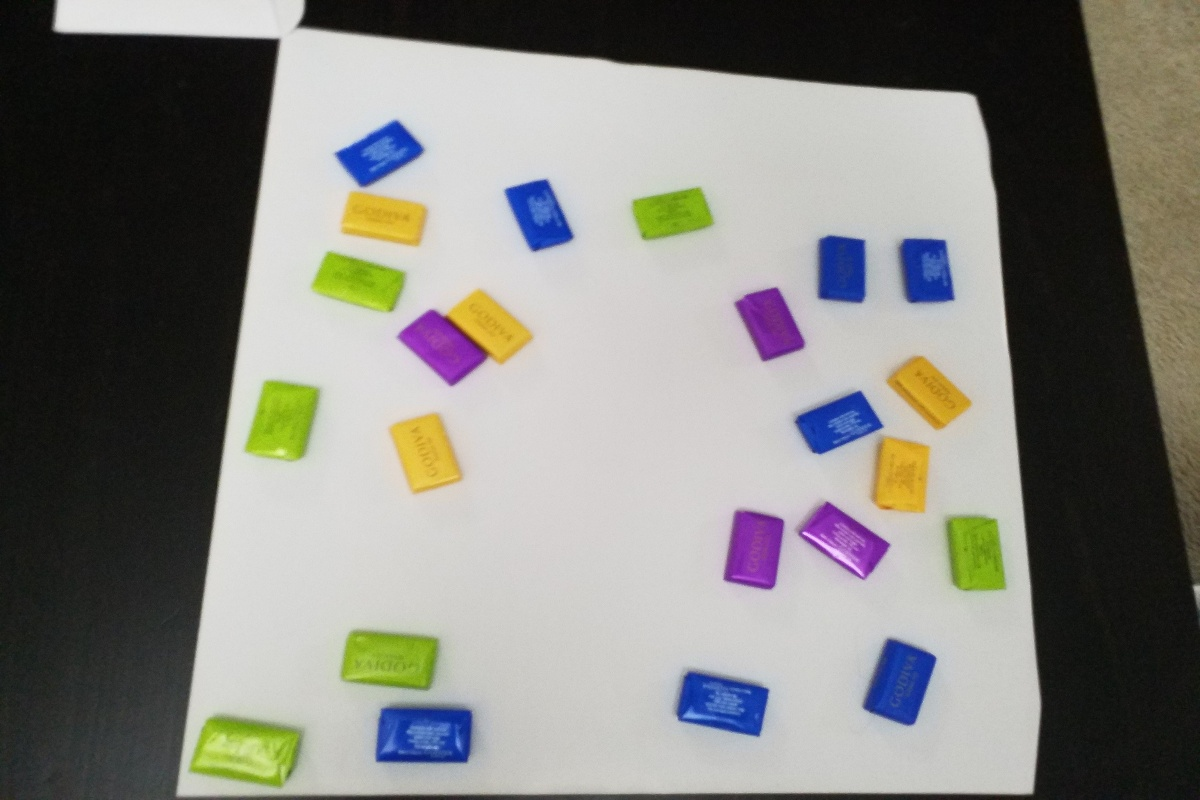chocolate_blue: (662, 658, 787, 743), (858, 631, 942, 726), (363, 701, 485, 765), (331, 111, 432, 188), (788, 386, 888, 461), (492, 171, 578, 257), (892, 227, 959, 317), (814, 223, 877, 317)
chocolate_green: (189, 712, 315, 788), (300, 242, 409, 321), (241, 368, 322, 471), (334, 623, 446, 692), (940, 506, 1010, 605), (630, 179, 719, 252)
chocolate_purple: (788, 491, 896, 587), (394, 306, 491, 390), (714, 494, 789, 601), (727, 280, 812, 368)
chocolate_yellow: (876, 344, 974, 438), (372, 411, 472, 493), (449, 287, 534, 366), (862, 432, 937, 521), (336, 190, 432, 249)
